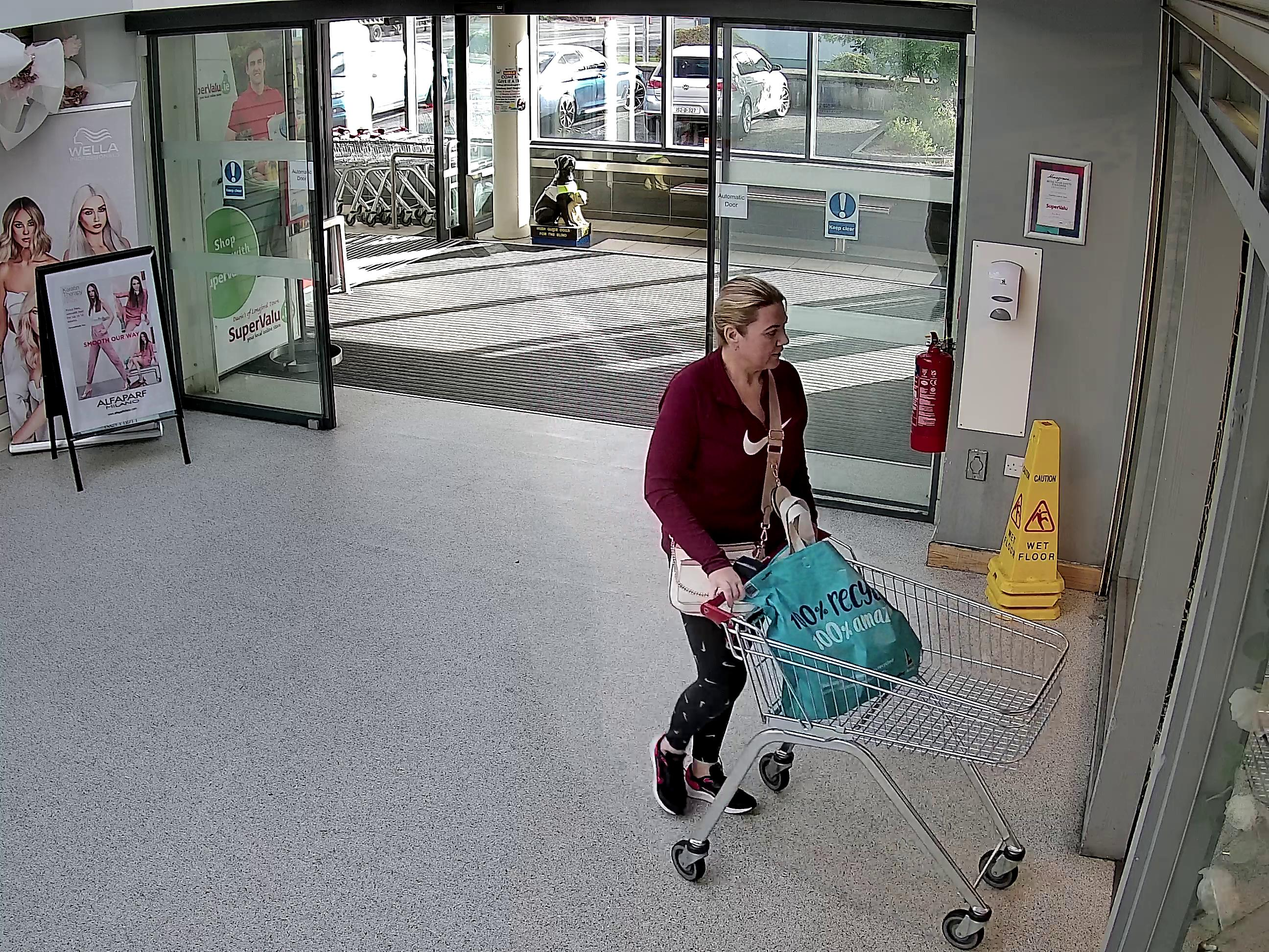backpack-or-handbag: (665, 542, 767, 619)
empty-shopping-bags: (738, 537, 922, 723)
empty-trolly: (674, 530, 1072, 950)
person: (641, 273, 817, 817)
person-with-basket-trolly-shopping-bag-s-and-backpack-handbag: (641, 273, 1072, 952)
